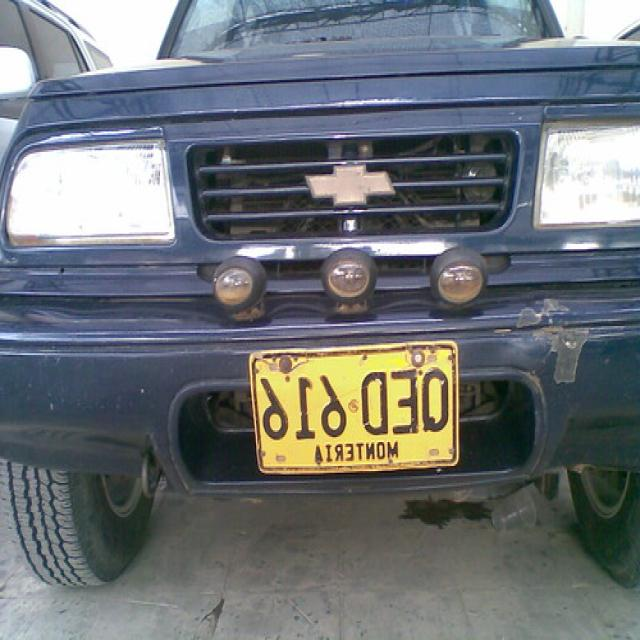placas: (253, 359, 451, 444)
